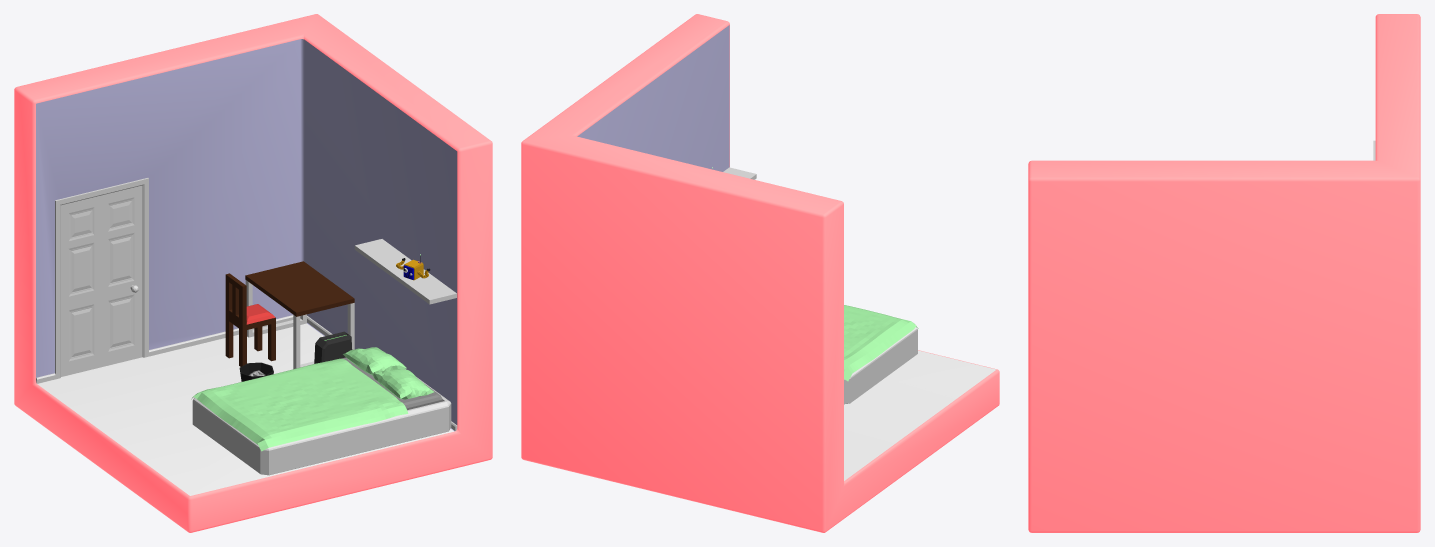
Rendered from CozyRoom_3.glb.
3 views of the same model, side by side, from view 1: azimuth 30°, elevation 25°; view 2: azimuth 150°, elevation 25°; view 3: azimuth 270°, elevation 25° (orthographic). The views are drawn at different scales.
Parts seen in each view (by area): view 1: Cube.025, Cube.004, Plane.005, Cube.002, Cube.015, Cube.023, Cube.008, Cube.007, Plane.007, Cube.005, Plane.006, Cube.010 (+2 smaller); view 2: Cube.025, Plane.005, Cube.002; view 3: Cube.025.
Part boxes in pixels (x1,y1,x2,y2): Cube.025: (14,14,492,532); Cube.004: (61,185,142,376); Plane.005: (191,358,408,451); Cube.002: (192,357,451,475); Cube.015: (245,261,354,369); Cube.023: (225,273,275,366); Cube.008: (354,239,456,304); Cube.007: (142,178,148,357); Plane.007: (372,369,433,399); Cube.005: (55,199,60,379); Plane.006: (343,347,406,374); Cube.010: (314,331,352,363); Cube.025: (521,14,999,532); Plane.005: (844,305,918,381); Cube.002: (844,327,917,404); Cube.025: (1028,14,1420,532).
Bounding box in the file's own units: 2.26 × 2.26 × 2.26.
